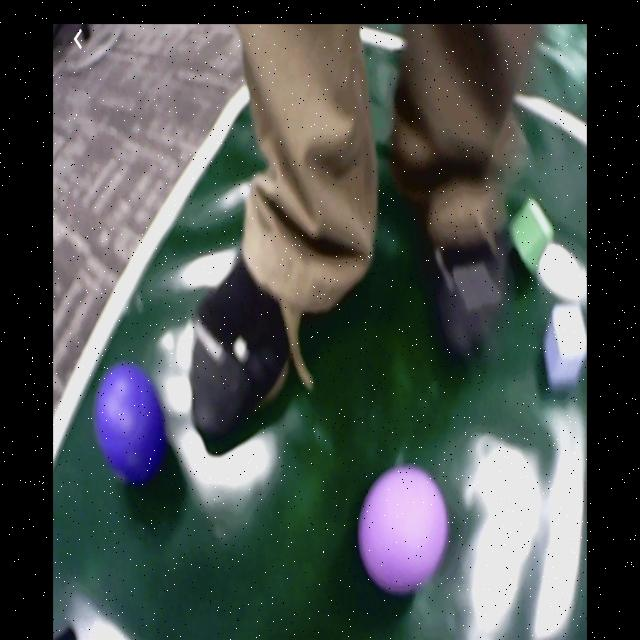ball: (359, 466, 449, 588), (98, 366, 167, 478)
